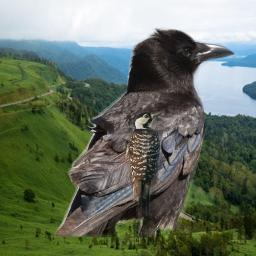Crow: (54, 27, 237, 237)
Woodpecker: (115, 111, 165, 226)
